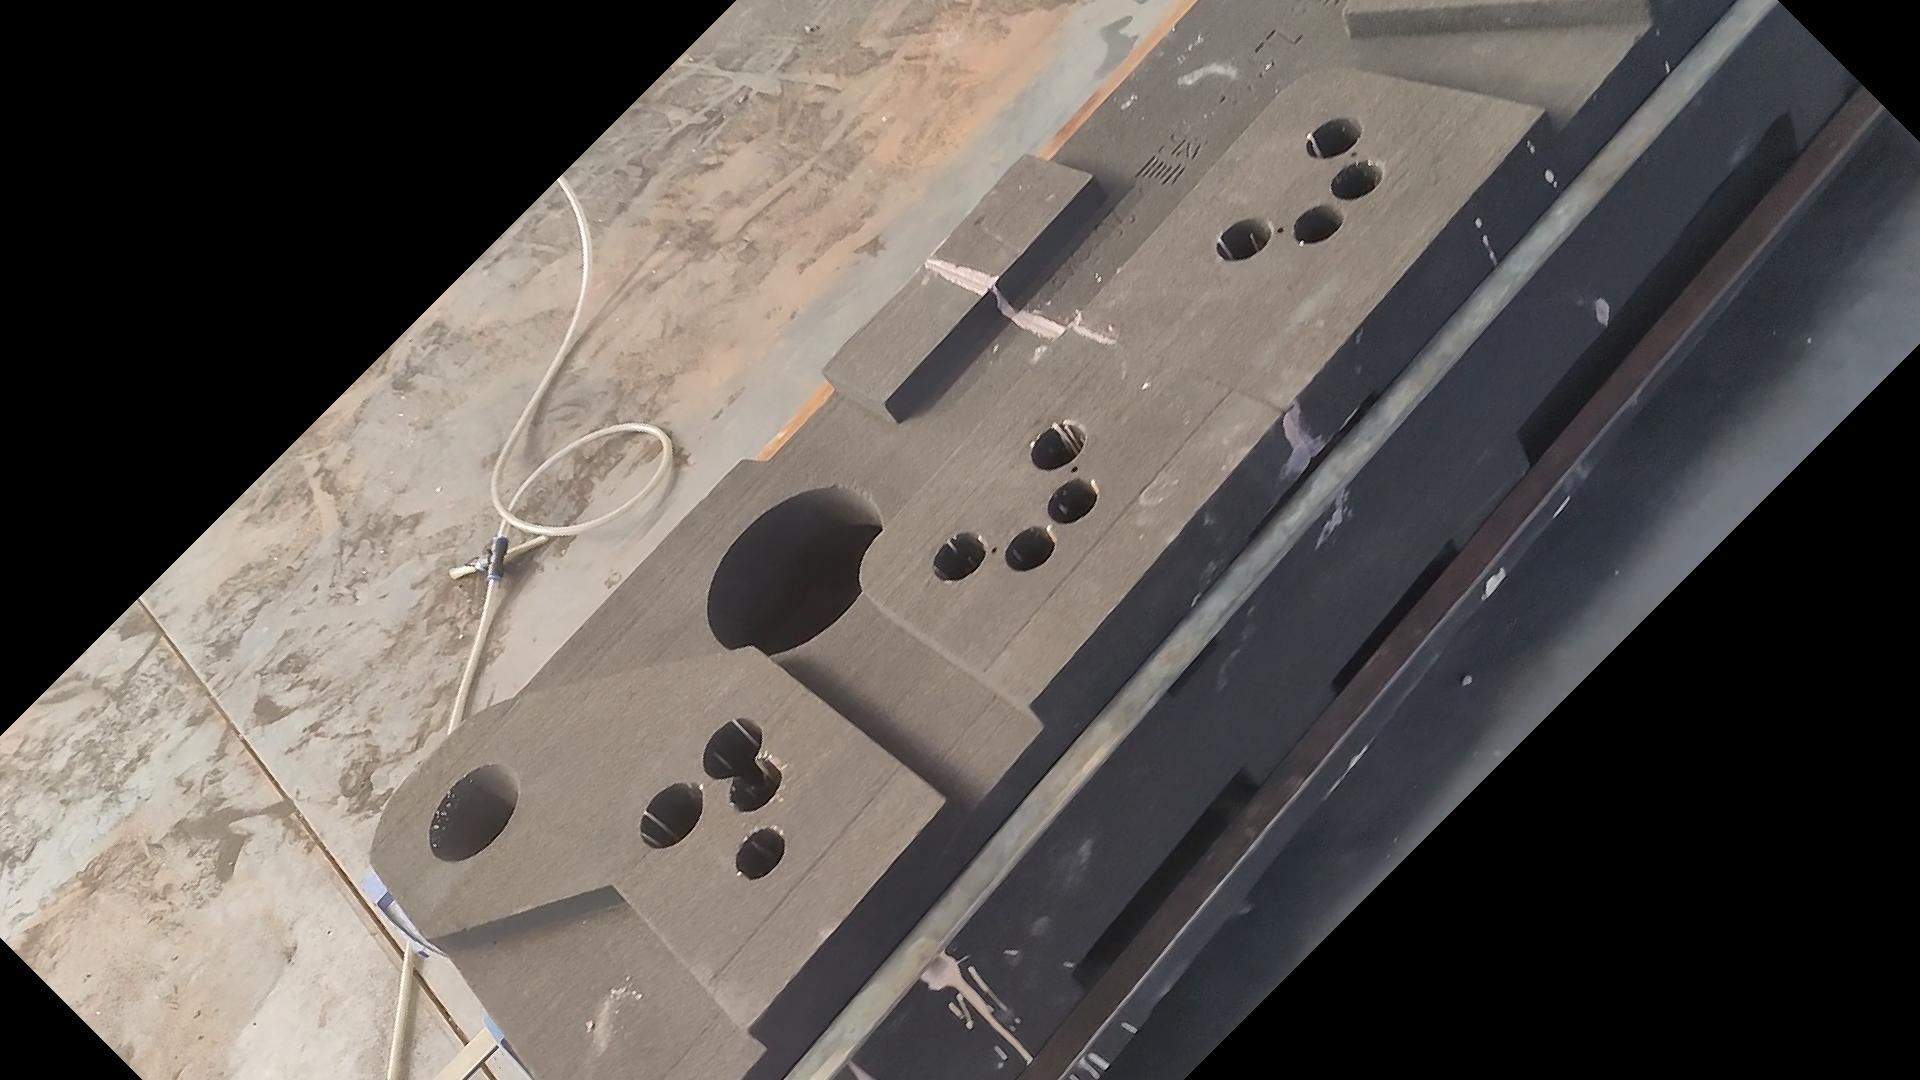pouring hole: (427, 764, 522, 862)
